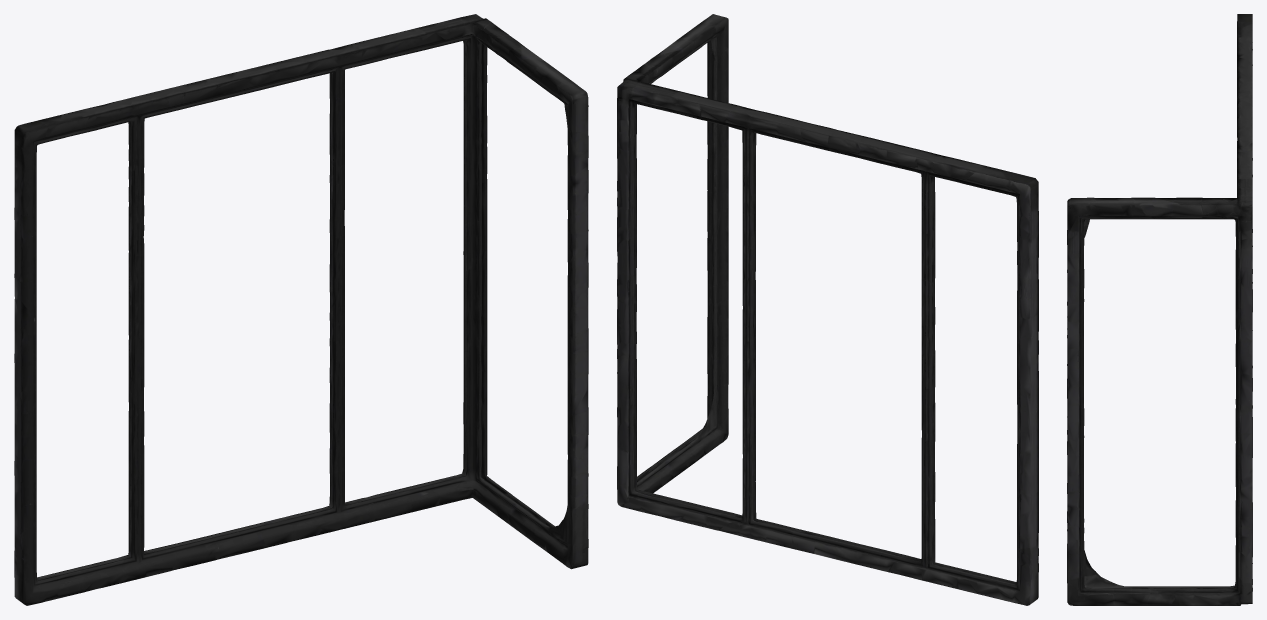
File: Floor to Ceiling Wind.glb
3 views of the same model, side by side, from view 1: azimuth 30°, elevation 25°; view 2: azimuth 150°, elevation 25°; view 3: azimuth 270°, elevation 25° (orthographic). The views are drawn at different scales.
Visible parts, largest first — view 1: Mesh_0.002; view 2: Mesh_0.002; view 3: Mesh_0.002.
Boxes of the visible parts, x1=… form: Mesh_0.002: x1=14, y1=14, x2=588, y2=605; Mesh_0.002: x1=617, y1=14, x2=1038, y2=605; Mesh_0.002: x1=1067, y1=14, x2=1252, y2=605.
Bounding box in the file's own units: 1.23 × 1.2 × 0.5025.
1 material, 1 textured.
